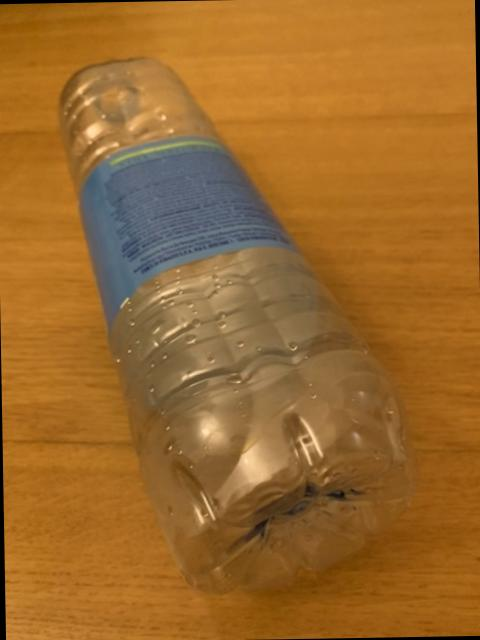plastic: (58, 57, 412, 589)
